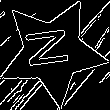N_E: (25, 29, 80, 75)
